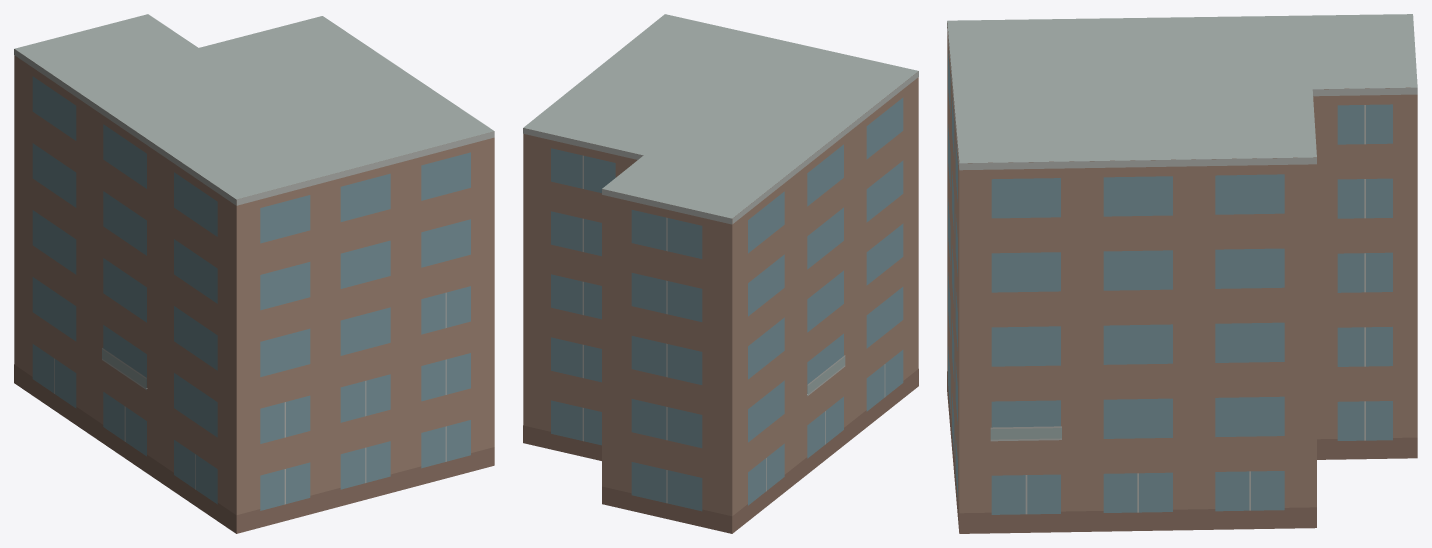
Rendered from survey-upis-32644589.glb.
3 renders of one model, left to right at view 1: azimuth 30°, elevation 25°; view 2: azimuth 150°, elevation 25°; view 3: azimuth 270°, elevation 25°, orthographic. The views are drawn at different scales.
Visible parts, largest first — view 1: survey-upis-32644589.tmp; view 2: survey-upis-32644589.tmp; view 3: survey-upis-32644589.tmp.
Boxes of the visible parts, x1,y1,x2,y2 form: survey-upis-32644589.tmp: (14, 14, 494, 533); survey-upis-32644589.tmp: (523, 14, 918, 533); survey-upis-32644589.tmp: (947, 14, 1417, 533).
Bounding box in the file's own units: 11.24 × 13 × 14.97.
